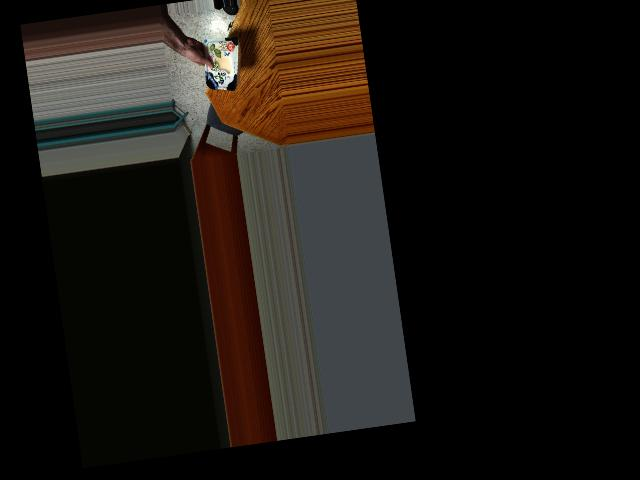cheese: (194, 42, 243, 91)
